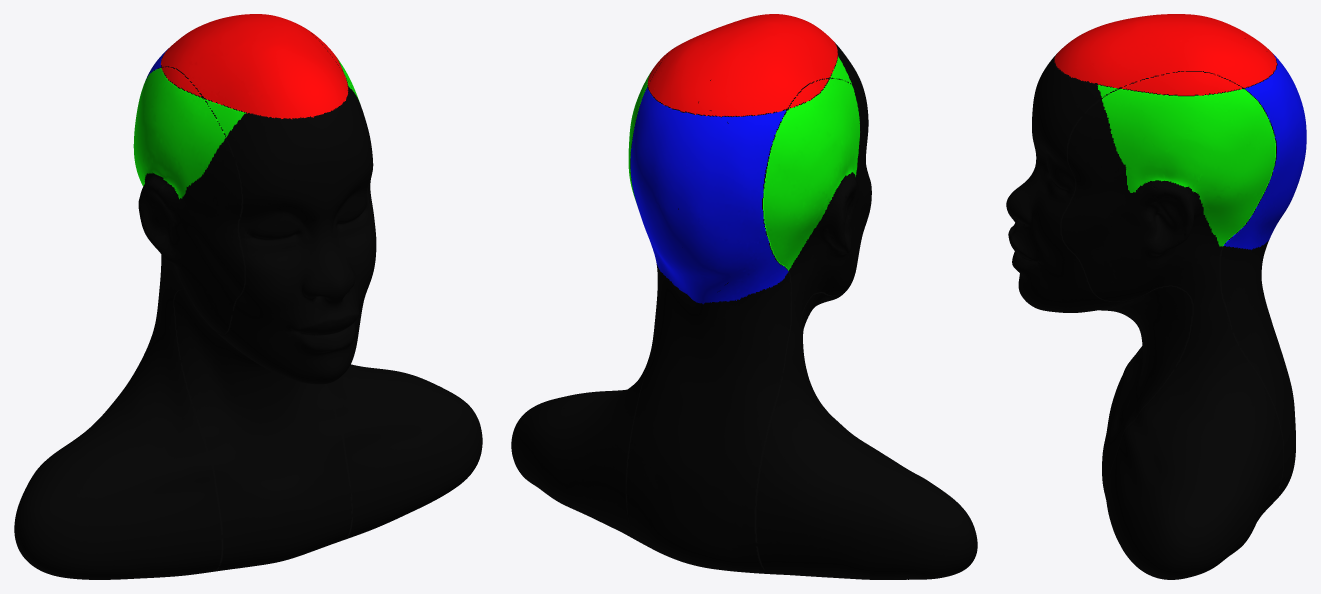
The model's file is custom_bust.glb.
The picture shows the model from 3 angles, left to right: view 1: azimuth 30°, elevation 25°; view 2: azimuth 150°, elevation 25°; view 3: azimuth 270°, elevation 25°; orthographic projection. The views are drawn at different scales.
Parts seen in each view (by area): view 1: Sphere.002; view 2: Sphere.002; view 3: Sphere.002.
Part boxes in pixels (<box>): Sphere.002: <box>14,14,482,579</box>; Sphere.002: <box>511,14,977,579</box>; Sphere.002: <box>1006,14,1306,579</box>.
Bounding box in the file's own units: 6.59 × 7.05 × 3.96.
1 material, 1 textured.
